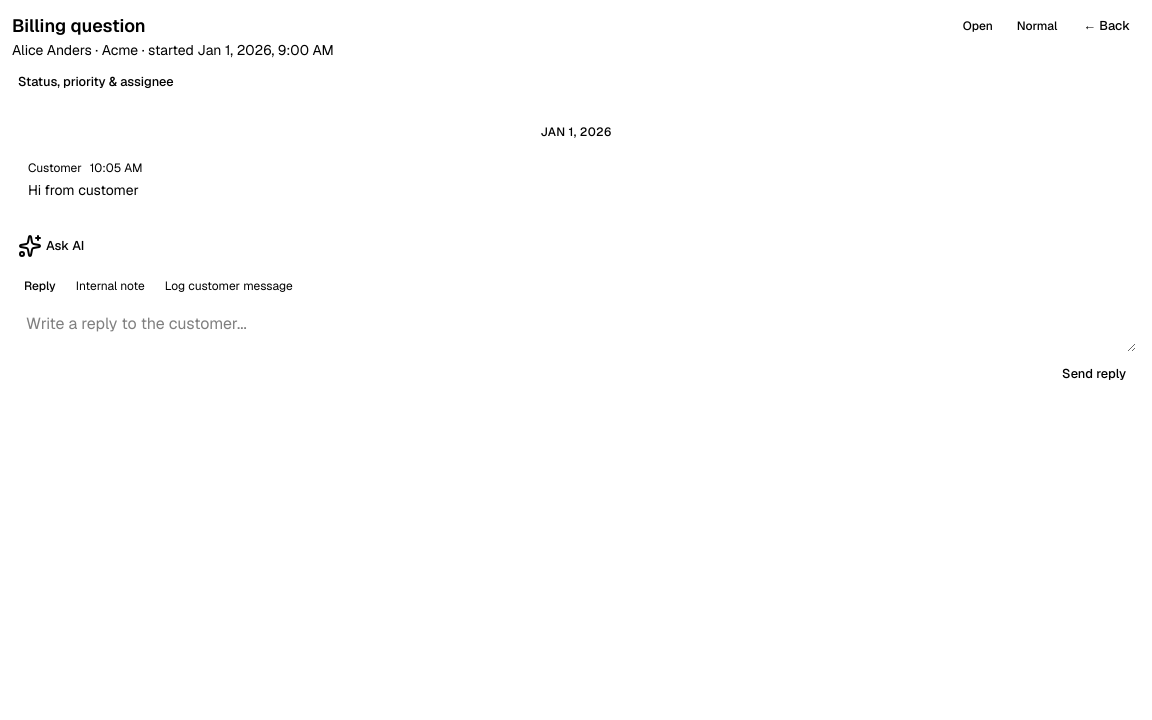
Scenario: ConversationPane › retry re-sends the same message once: failed -> sending -> sent, never two copies
This screenshot has width=1152, height=720.
Type "Try again" into the text box at (576, 328), box [16,304,1136,352]
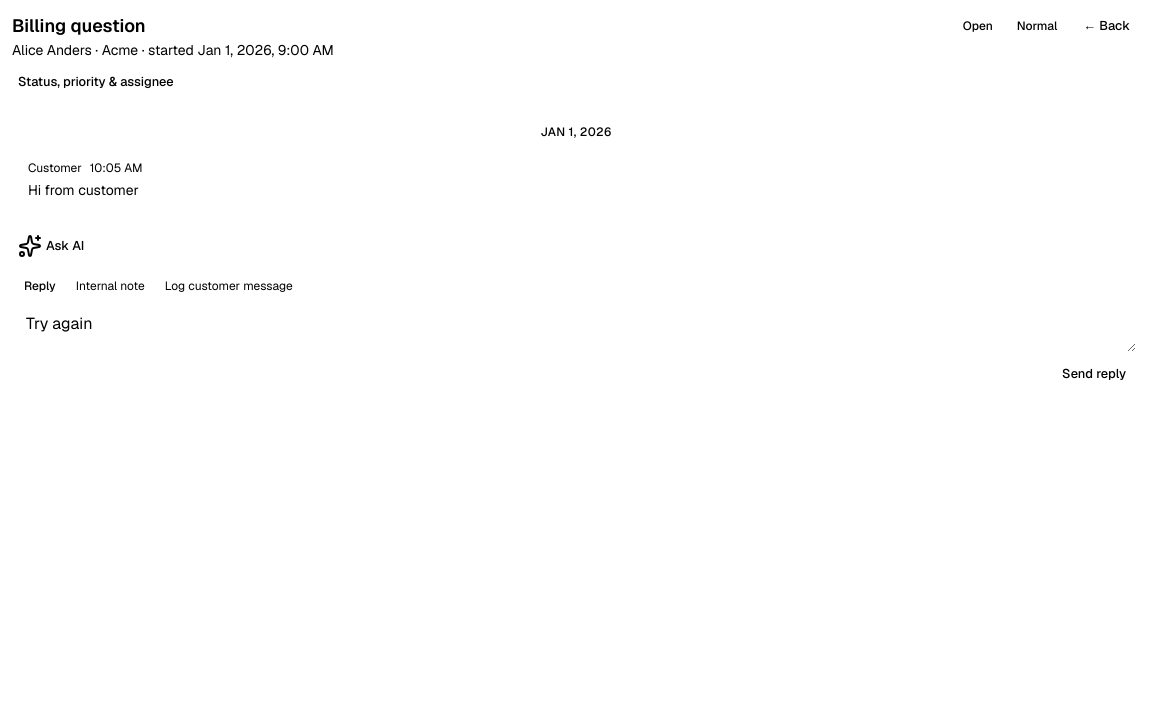
Click the button "Send reply" at (1094, 374), box [1052,360,1136,388]
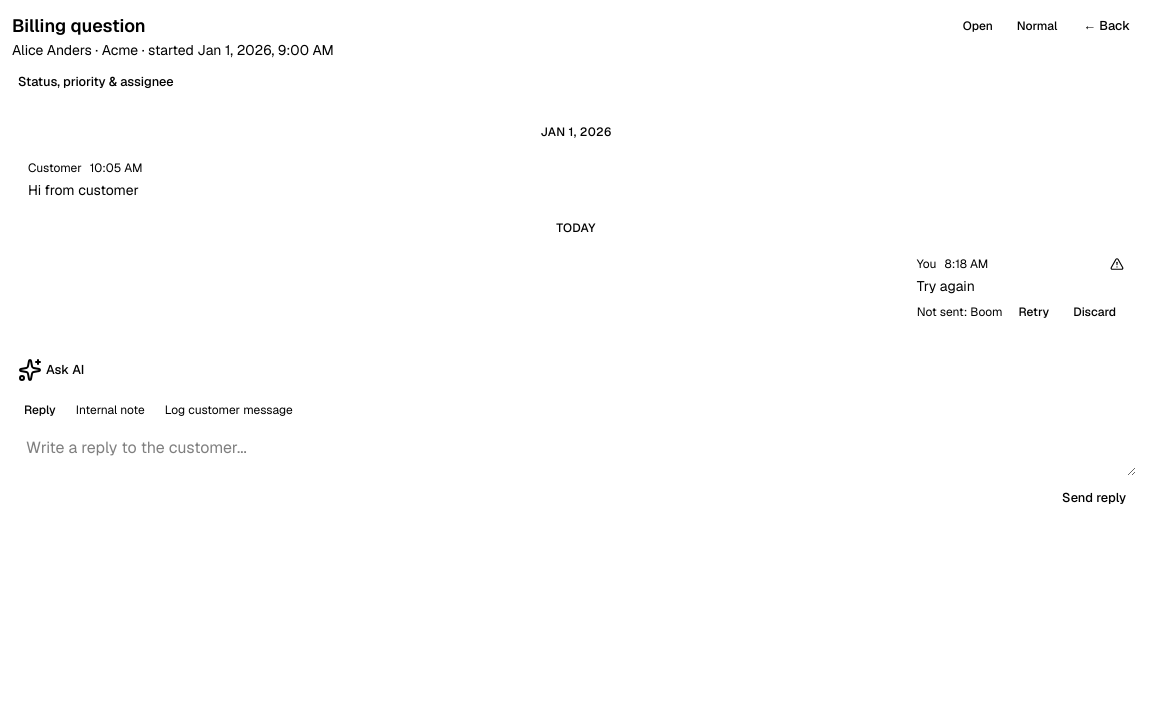
Click the button "Retry" at (1034, 312), box [1010,300,1057,324]
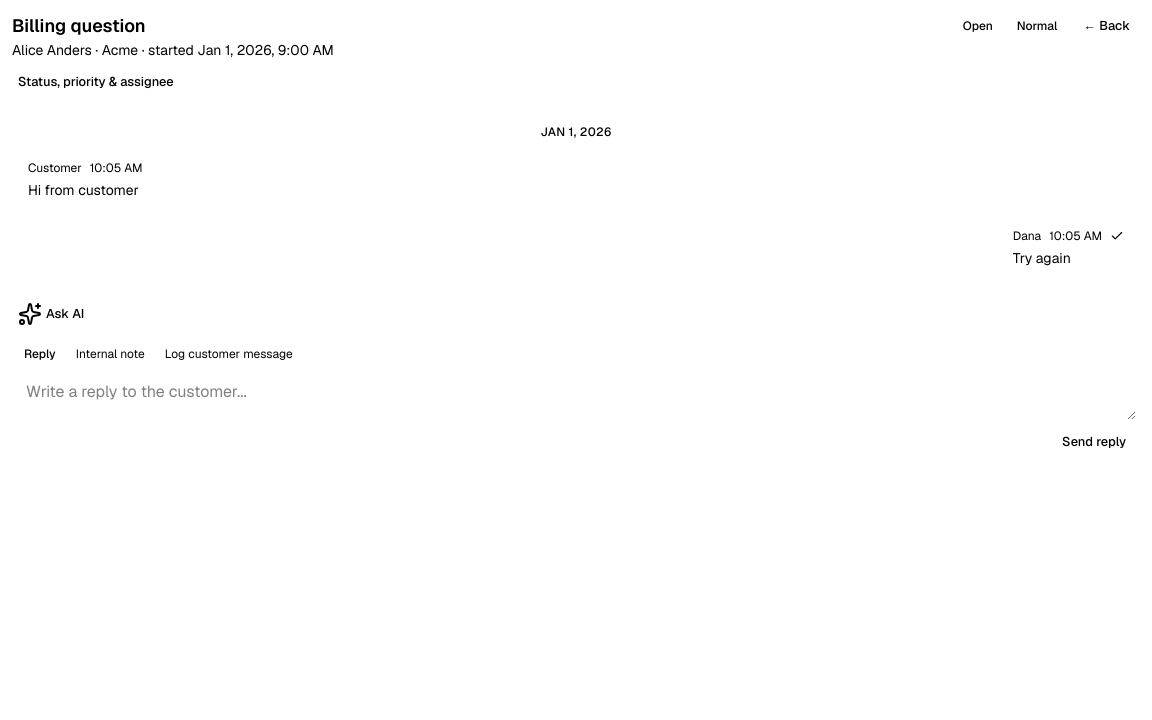
Result: the text "Try again" is shown once at [1013,249,1071,267]
Result: the button "Retry" is gone
Result: the picture named "Sent" is shown at [1110,229,1124,243]
